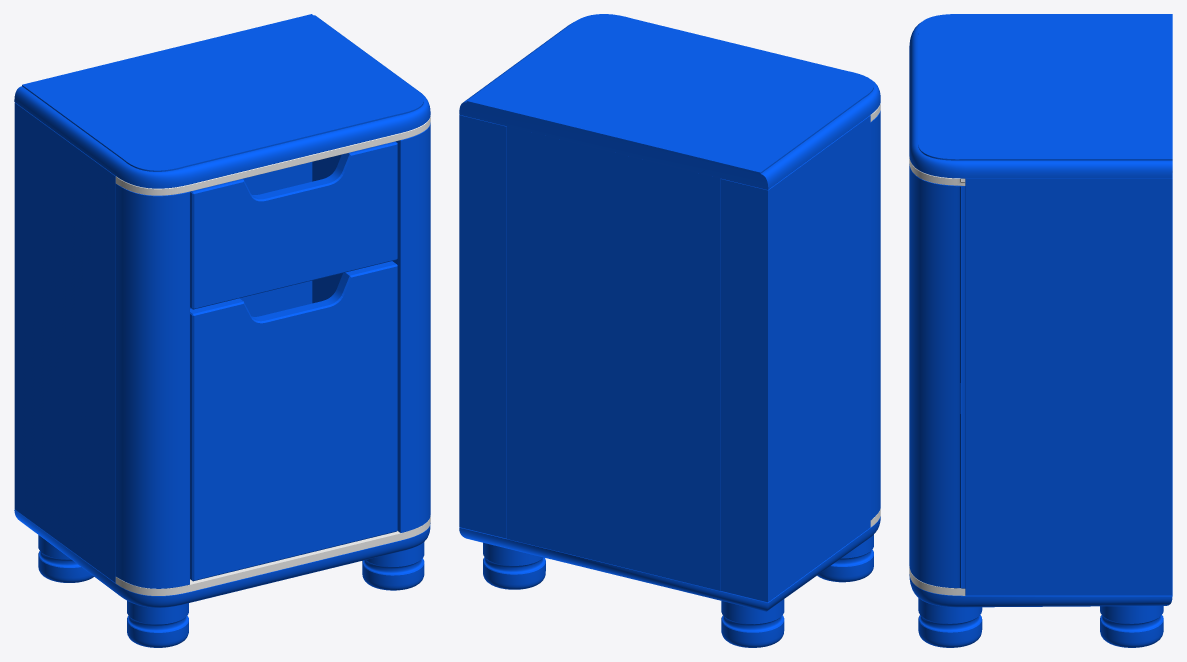
Rendered from CAC_AAA-nightstand.FBX.
3 views of the same model, side by side, from view 1: azimuth 30°, elevation 25°; view 2: azimuth 150°, elevation 25°; view 3: azimuth 270°, elevation 25° (orthographic). The views are drawn at different scales.
Visible parts, largest first — view 1: TiroirCom27, onyx-chevet-1t1p, Line13, Box16, TiroirCom26, Line12, Box17, Cylinder36, Cylinder37, Cylinder34; view 2: Box17, Box16, Line13, onyx-chevet-1t1p, Line12, Cylinder34, Cylinder35, Cylinder36; view 3: Box16, Line13, onyx-chevet-1t1p, Line12, Cylinder37, Cylinder35.
Boxes of the visible parts, left/top/right/bottom form: TiroirCom27: left=190, top=261, right=397, bottom=581; onyx-chevet-1t1p: left=115, top=115, right=430, bottom=595; Line13: left=14, top=14, right=430, bottom=188; Box16: left=14, top=102, right=342, bottom=582; TiroirCom26: left=190, top=141, right=397, bottom=309; Line12: left=14, top=509, right=430, bottom=607; Box17: left=190, top=162, right=312, bottom=316; Cylinder36: left=127, top=600, right=188, bottom=647; Cylinder37: left=362, top=542, right=424, bottom=590; Cylinder34: left=38, top=535, right=93, bottom=582; Box17: left=507, top=126, right=720, bottom=590; Box16: left=459, top=115, right=870, bottom=602; Line13: left=459, top=14, right=880, bottom=189; onyx-chevet-1t1p: left=870, top=103, right=880, bottom=527; Line12: left=459, top=516, right=880, bottom=611; Cylinder34: left=721, top=599, right=784, bottom=647; Cylinder35: left=483, top=542, right=545, bottom=589; Cylinder36: left=817, top=534, right=873, bottom=582; Box16: left=965, top=173, right=1172, bottom=595; Line13: left=909, top=14, right=1172, bottom=178; onyx-chevet-1t1p: left=909, top=157, right=965, bottom=595; Line12: left=909, top=574, right=1172, bottom=607; Cylinder37: left=918, top=598, right=982, bottom=647; Cylinder35: left=1100, top=606, right=1163, bottom=647.
Size of the model in its own units: 45.18 by 67.83 by 32.98.
